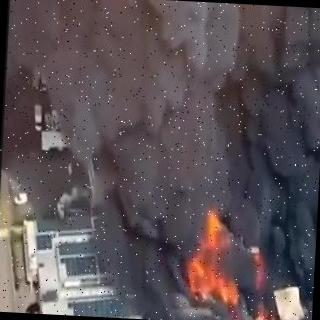smoke: (1, 1, 320, 212), (70, 209, 194, 320)
